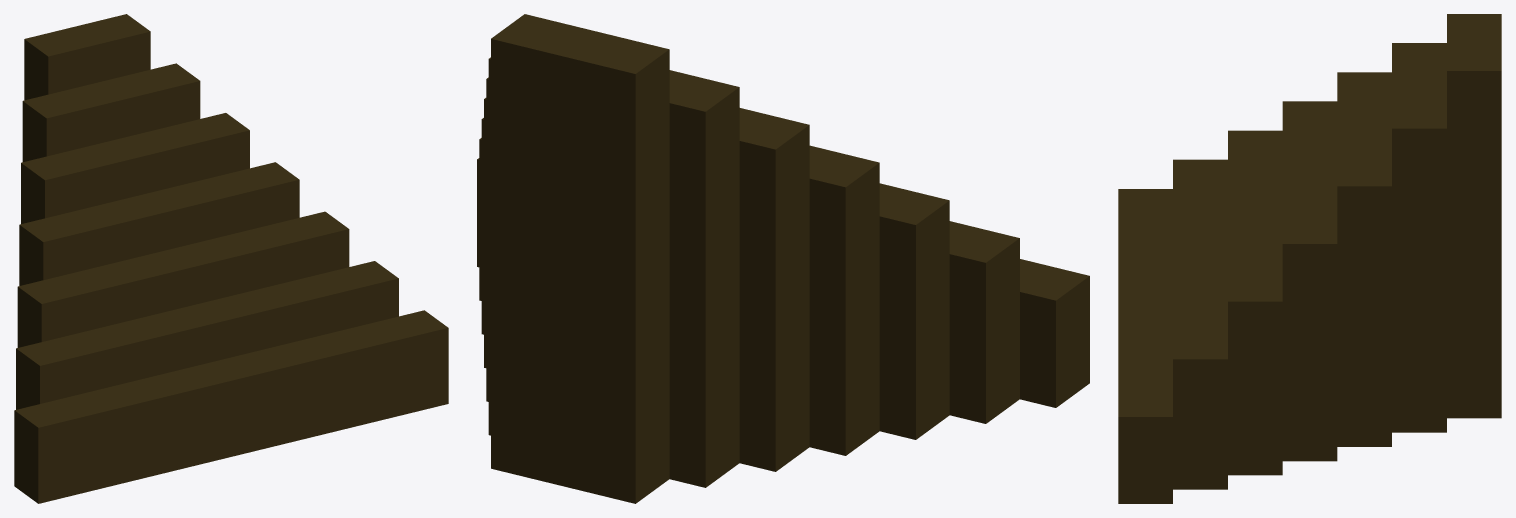
The picture shows the model from 3 angles, left to right: view 1: azimuth 30°, elevation 25°; view 2: azimuth 150°, elevation 25°; view 3: azimuth 270°, elevation 25°; orthographic projection. The views are drawn at different scales.
Visible parts, largest first — view 1: base; view 2: base; view 3: base.
Boxes of the visible parts, x1=… form: base: x1=14, y1=14, x2=448, y2=503; base: x1=477, y1=14, x2=1089, y2=503; base: x1=1118, y1=14, x2=1501, y2=503.
Bounding box in the file's own units: 2.22 × 1.57 × 1.57.
